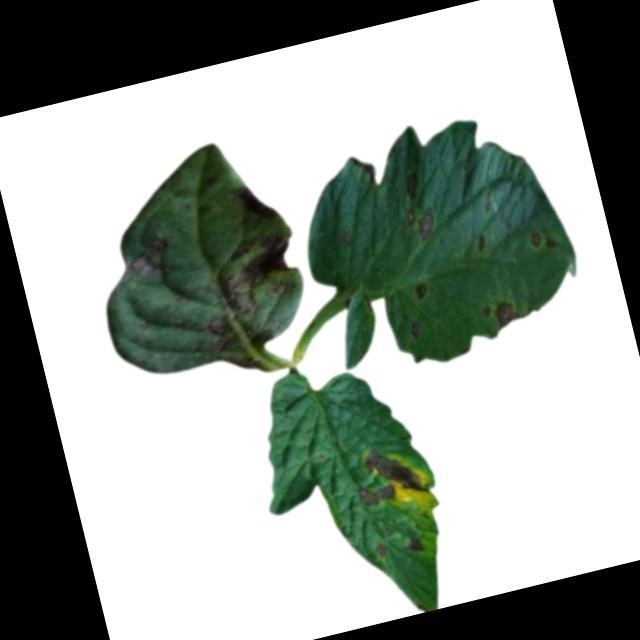Early_blight: (182, 229, 317, 362), (108, 229, 179, 286), (358, 442, 423, 504), (231, 181, 281, 228), (401, 199, 441, 246), (479, 294, 523, 334), (353, 480, 396, 511), (399, 171, 423, 201), (528, 229, 556, 254), (403, 533, 425, 558), (404, 317, 421, 340), (371, 540, 389, 560), (410, 283, 428, 301)
